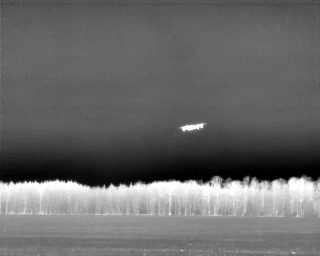DRONE: (176, 117, 210, 137)
